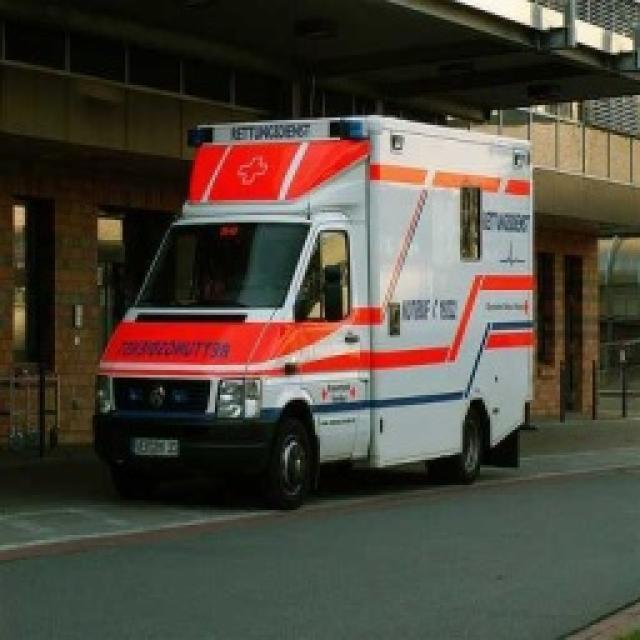emergency-vehicle: (90, 101, 544, 488)
